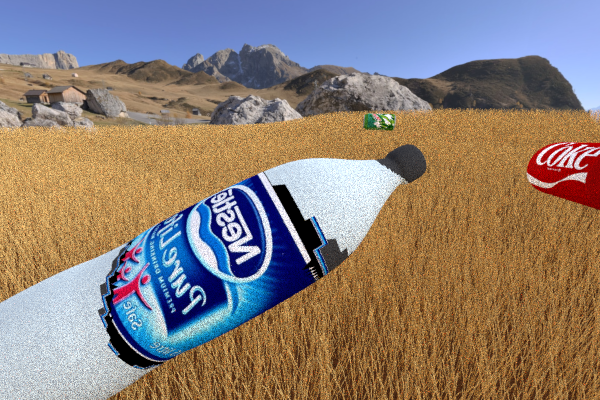bottle: (0, 144, 426, 400)
can: (526, 142, 600, 214), (362, 113, 395, 130)
